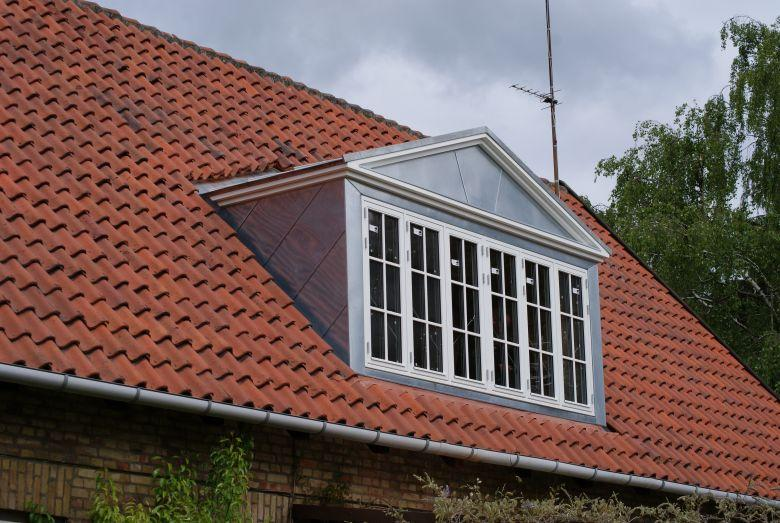kvist windows: (164, 108, 625, 444)
